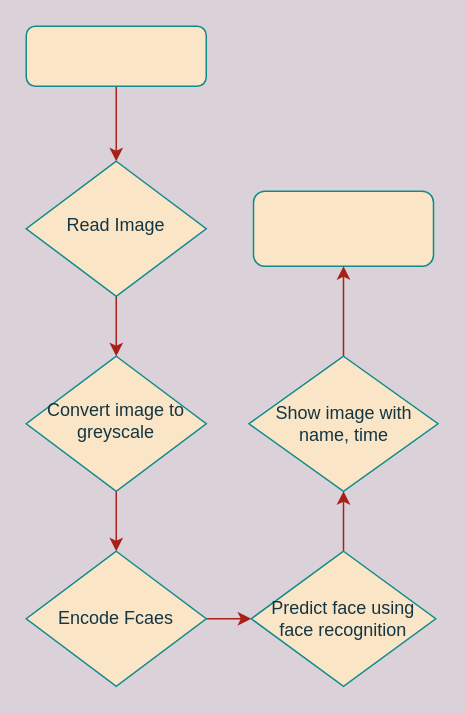
The diagram is 465 pixels wide and 713 high, and some of its shapes have lost their labels. The shapes that lost their labels are listed below. From the top down, each one's centre as x and y in pixels, then its label:
the point at 115,55: Start
the point at 343,228: stop
